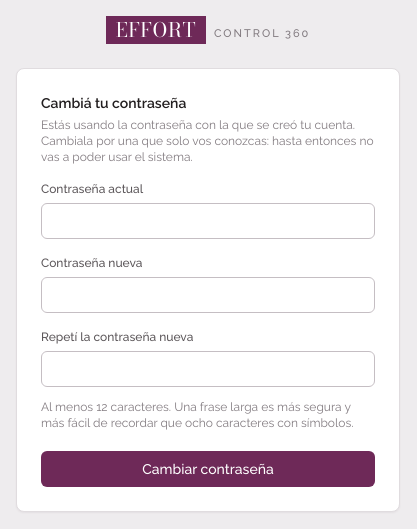
Test: cambio de contraseña obligatorio › al cambiarla avisa que se cerraron todas las sesiones
Type "la de siempre" into the password field labelled "Contraseña actual". click: {"x": 208, "y": 221}
box: [41,203,375,239]
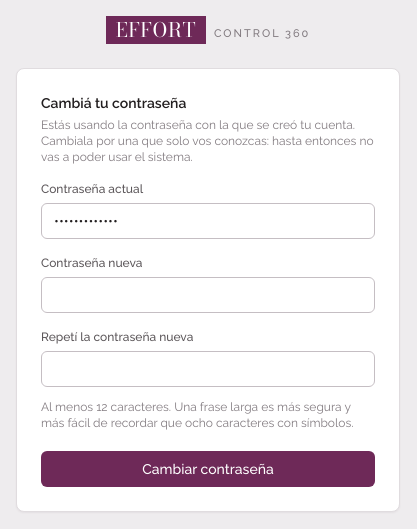
Type "una frase nueva y larga" into the password field labelled "Contraseña nueva". click: {"x": 208, "y": 295}
box: [41,277,375,313]
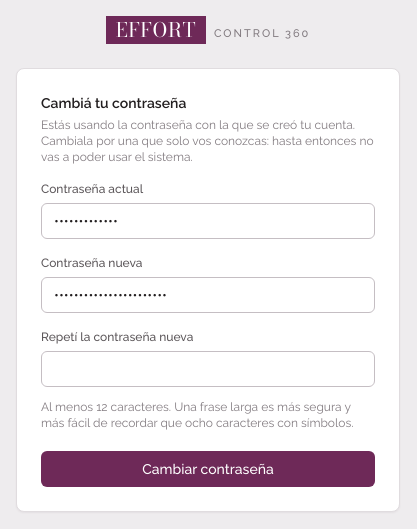
Type "una frase nueva y larga" into the password field labelled "Repetí la contraseña nueva". click: {"x": 208, "y": 369}
box: [41,351,375,387]
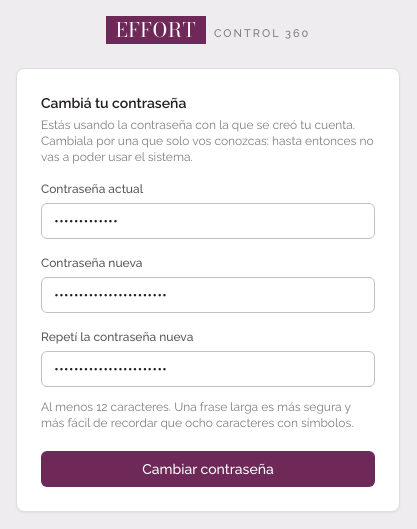
Click the button "Cambiar contraseña". click: {"x": 208, "y": 469}
box: [41,451,375,487]
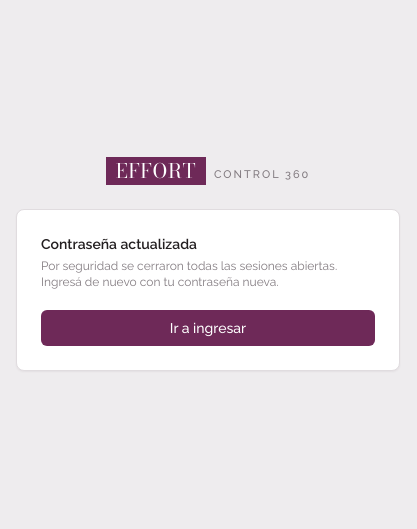
Now the heading "Contraseña actualizada" is shown, box [41,236,197,252]
